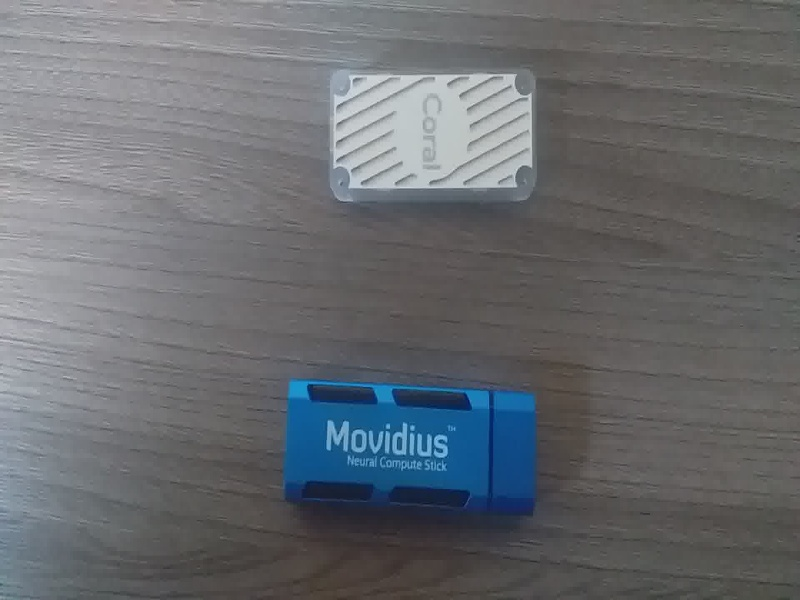coral: (314, 52, 551, 206)
movidius: (277, 372, 554, 528)
